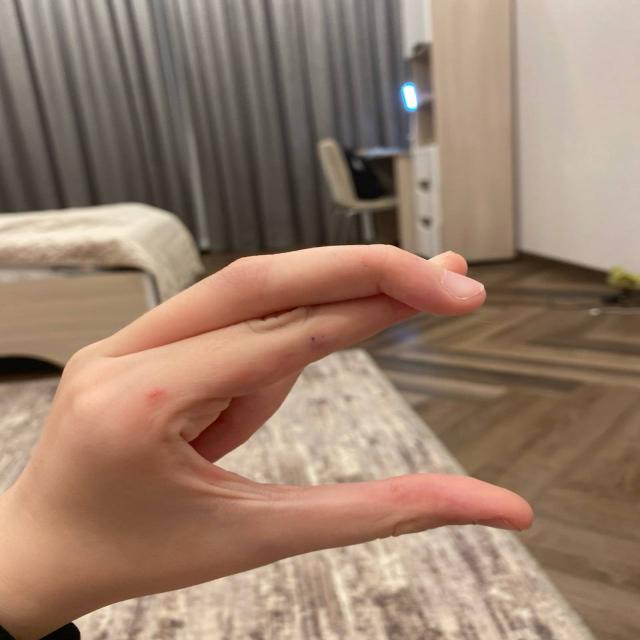ia: (46, 194, 606, 578)
